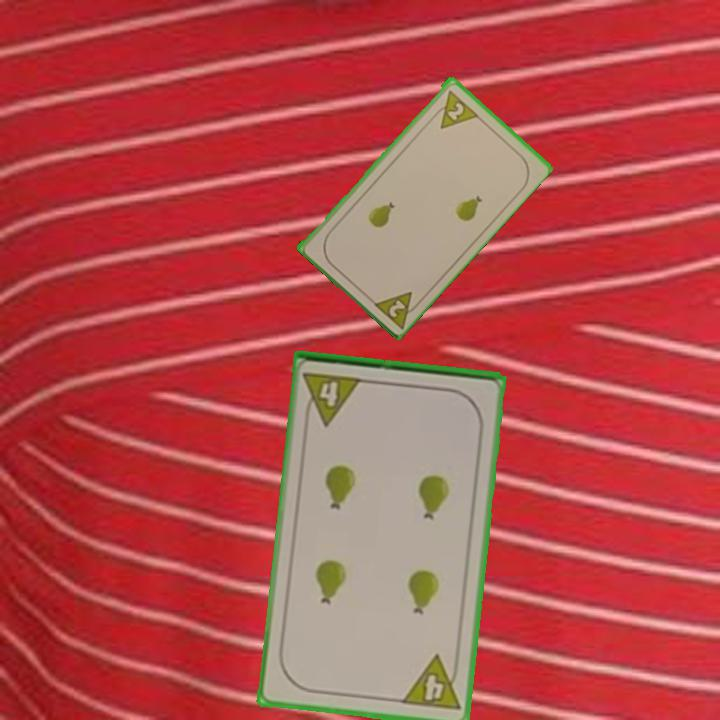2p: (368, 287, 425, 331), (444, 98, 467, 123)
4p: (398, 652, 463, 714), (300, 368, 365, 428)
